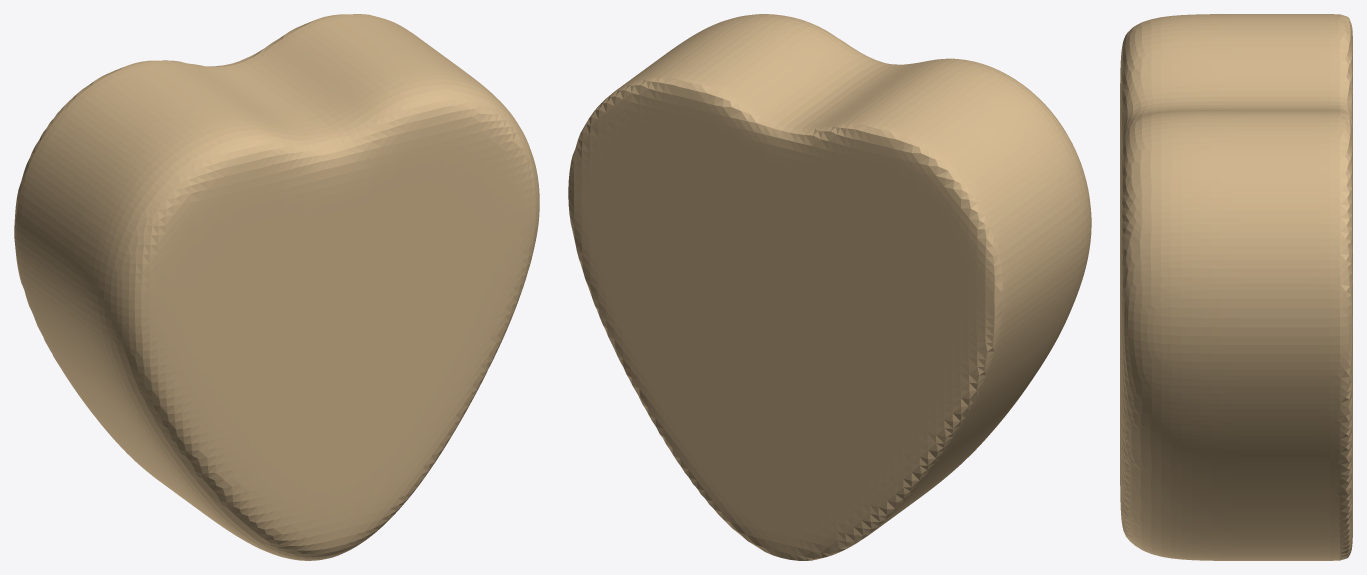
The model's file is Conversation_Bullet_Peach.glb.
3 renders of one model, left to right at view 1: azimuth 30°, elevation 25°; view 2: azimuth 150°, elevation 25°; view 3: azimuth 270°, elevation 25°, orthographic. The views are drawn at different scales.
Parts seen in each view (by area): view 1: upper right conversation heart; view 2: upper right conversation heart; view 3: upper right conversation heart.
Part boxes in pixels (x1,y1,x2,y2): upper right conversation heart: [14, 14, 539, 560]; upper right conversation heart: [568, 14, 1091, 560]; upper right conversation heart: [1120, 14, 1352, 560].
Size of the model in its own units: 1.93 by 1.94 by 0.859.
